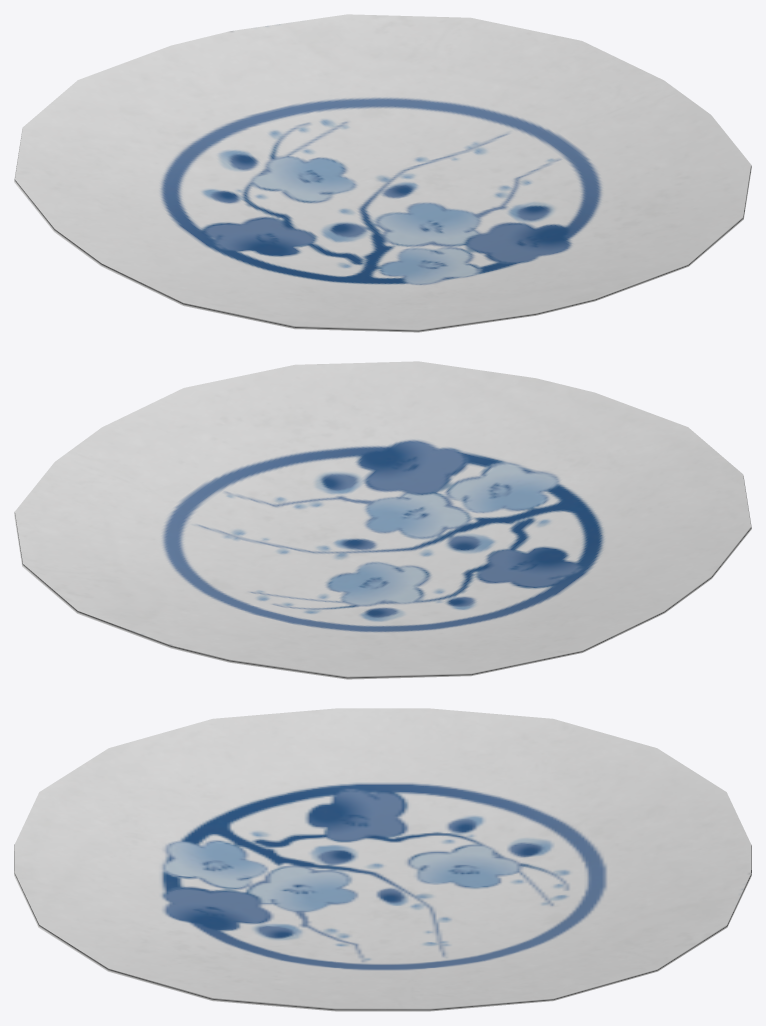
File: jov_porcelain05b.fbx
3 views of the same model, one above another, from view 1: azimuth 30°, elevation 25°; view 2: azimuth 150°, elevation 25°; view 3: azimuth 270°, elevation 25° (orthographic).
Visible parts, largest first — view 1: jov_porcelain05b; view 2: jov_porcelain05b; view 3: jov_porcelain05b.
Boxes of the visible parts, x1,y1,x2,y2 form: jov_porcelain05b: (14, 14, 751, 332); jov_porcelain05b: (14, 361, 751, 679); jov_porcelain05b: (14, 708, 751, 1011).
Bounding box in the file's own units: 0.3907 × 0.02 × 0.4053.
